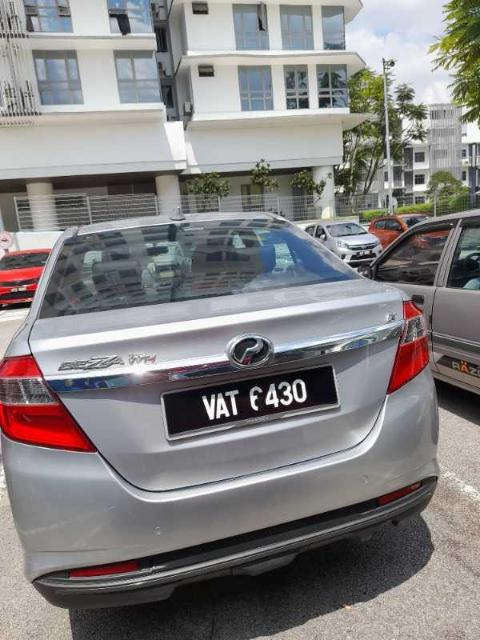License_Plate: (161, 364, 341, 443)
car: (1, 211, 441, 612)
